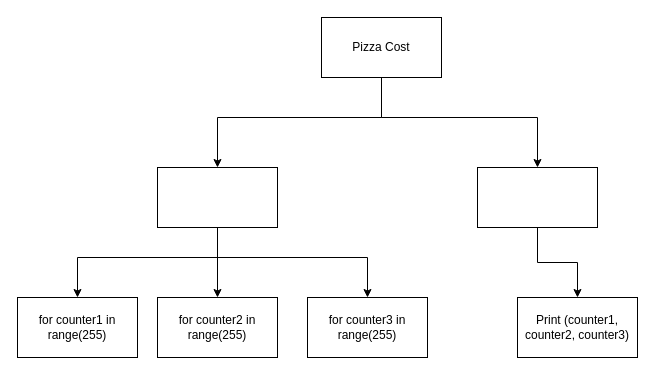
The diagram is 655 pixels wide and 375 high, and some of its shapes have lost their labels. The box of each missing label's shape, as (x1, y1, x2, y2) in pixels:
Output: (476, 166, 598, 228)
Process: (156, 166, 278, 228)
